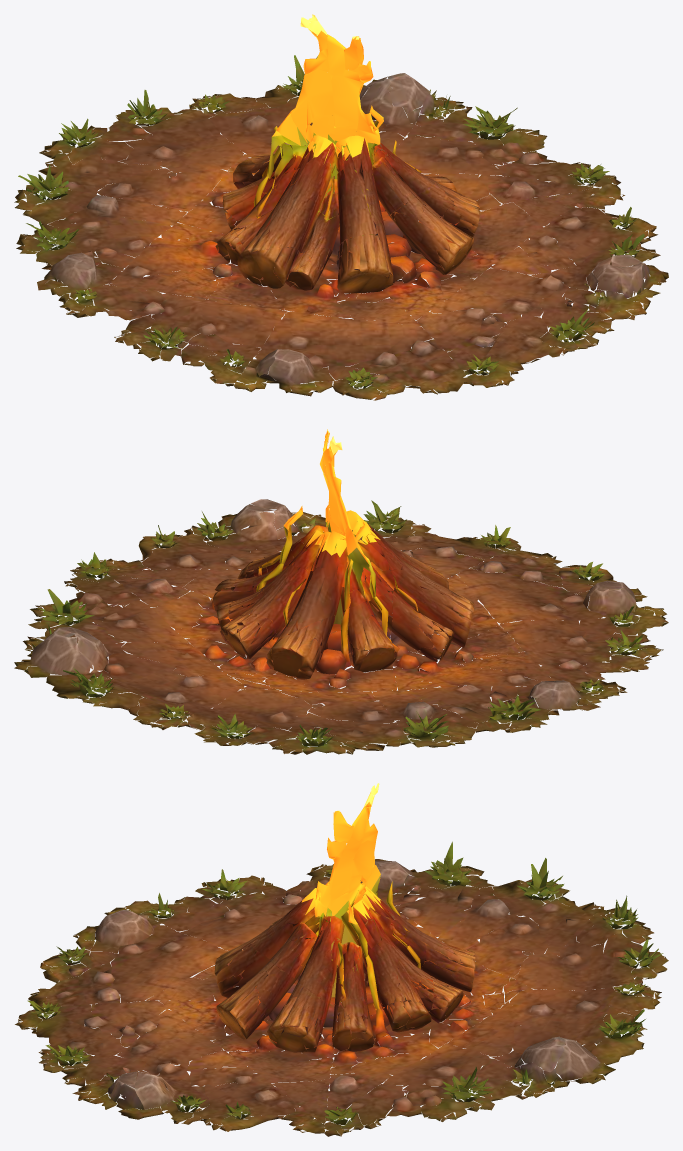
Rendered from feu_camp_t3.glb.
3 views of the same model, one above another, from view 1: azimuth 30°, elevation 25°; view 2: azimuth 150°, elevation 25°; view 3: azimuth 270°, elevation 25° (orthographic). The views are drawn at different scales.
Visible parts, largest first — view 1: feu_camp_t3; view 2: feu_camp_t3; view 3: feu_camp_t3.
Part boxes in pixels (<box>): feu_camp_t3: <box>14,14,668,400</box>; feu_camp_t3: <box>14,429,668,754</box>; feu_camp_t3: <box>15,783,668,1136</box>.
Bounding box in the file's own units: 0.965 × 0.3957 × 0.9976.
Materials: 3 (1 with a texture image).
